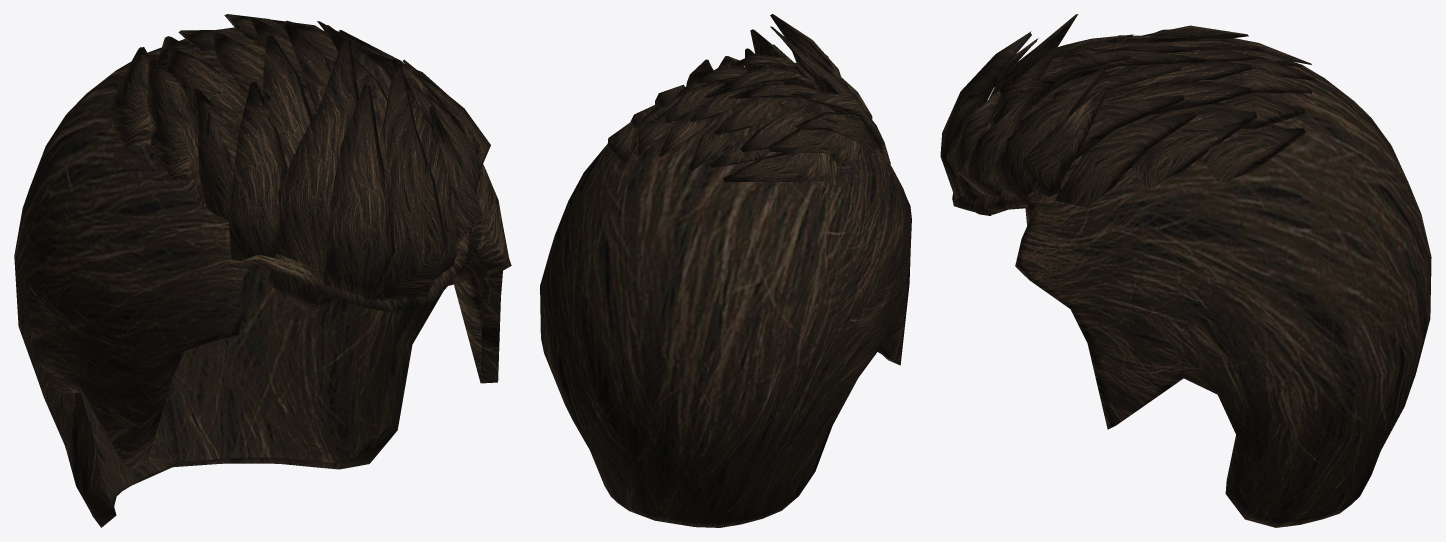
Rendered from 231027_G_Hair_01_WebBuilderTest.glb.
3 renders of one model, left to right at view 1: azimuth 30°, elevation 25°; view 2: azimuth 150°, elevation 25°; view 3: azimuth 270°, elevation 25°, orthographic. The views are drawn at different scales.
Parts seen in each view (by area): view 1: G_Hair_01; view 2: G_Hair_01; view 3: G_Hair_01.
Boxes of the visible parts, box(x1,y1,x2,y2) form: G_Hair_01: box(14, 14, 511, 527); G_Hair_01: box(540, 14, 911, 527); G_Hair_01: box(940, 14, 1431, 527).
Bounding box in the file's own units: 0.1625 × 0.2125 × 0.1991.
1 material, 1 textured.
